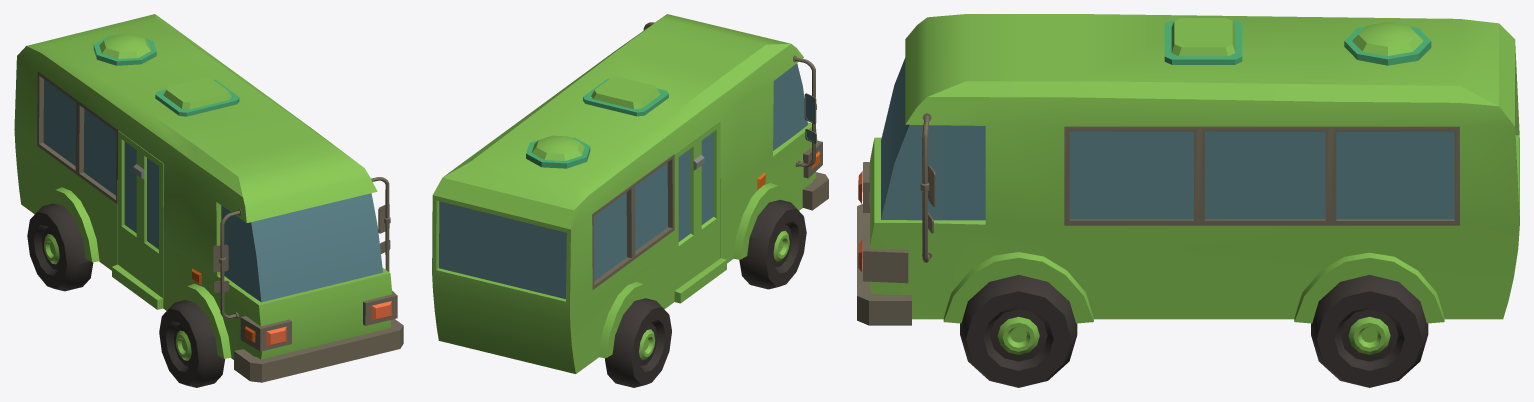
The model's file is Bus_OpenDoor.fbx.
3 views of the same model, side by side, from view 1: azimuth 30°, elevation 25°; view 2: azimuth 150°, elevation 25°; view 3: azimuth 270°, elevation 25° (orthographic). The views are drawn at different scales.
Visible parts, largest first — view 1: Plane, Plane.006, Plane.005; view 2: Plane, Plane.005, Plane.006; view 3: Plane.
Part boxes in pixels (left/top/right/bottom): Plane: left=14, top=14, right=403, bottom=387; Plane.006: left=137, top=147, right=163, bottom=297; Plane.005: left=118, top=130, right=140, bottom=280; Plane: left=432, top=14, right=828, bottom=387; Plane.005: left=674, top=137, right=700, bottom=290; Plane.006: left=697, top=120, right=720, bottom=274; Plane: left=857, top=14, right=1519, bottom=387.
Bounding box in the file's own units: 2.88 × 3.4 × 6.83.
